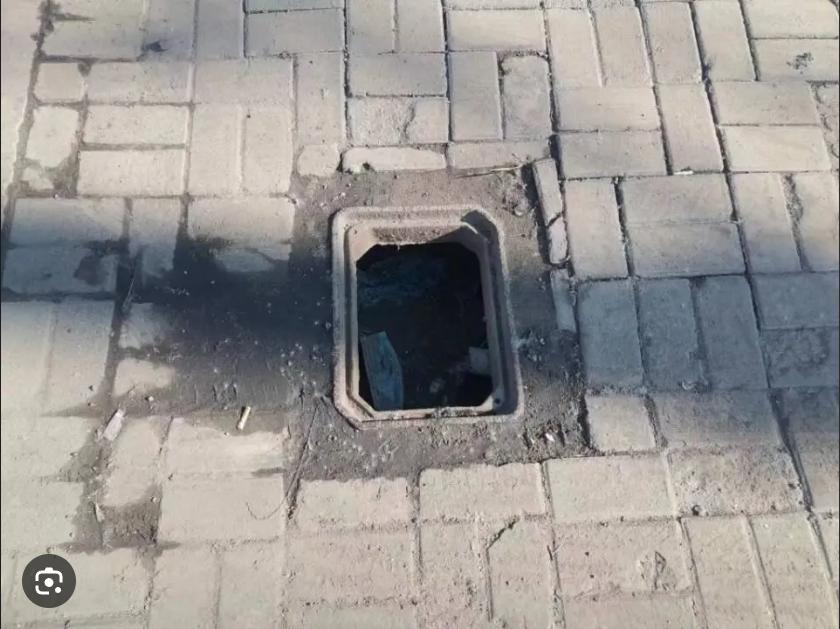wellcover: (318, 178, 529, 443)
